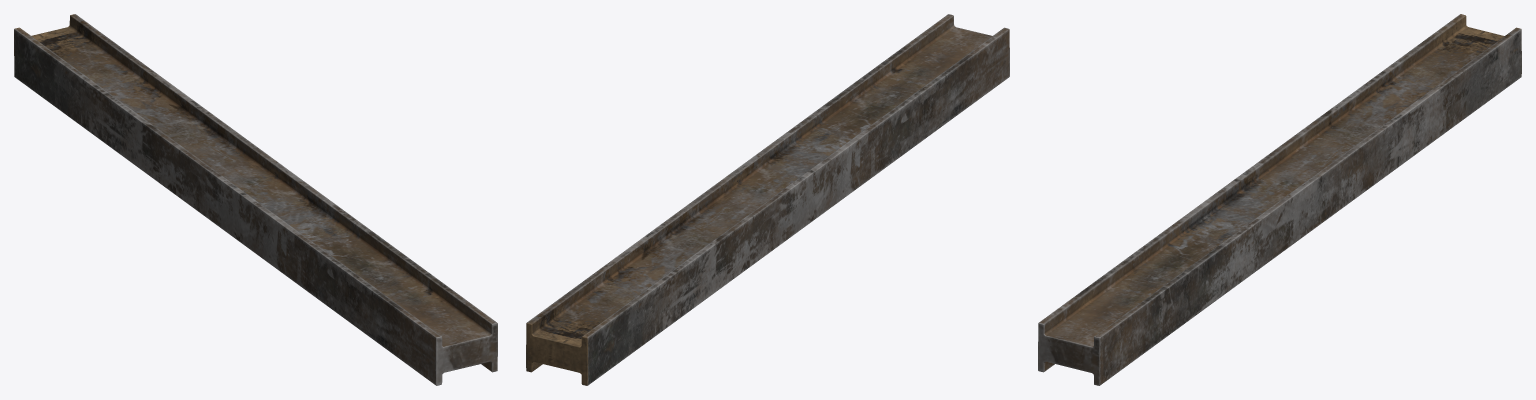
The model's file is SM_Beam_02.fbx.
The picture shows the model from 3 angles, left to right: view 1: azimuth 30°, elevation 25°; view 2: azimuth 150°, elevation 25°; view 3: azimuth 330°, elevation 25°; orthographic projection.
Visible parts, largest first — view 1: SM_Beam_02_LOD0; view 2: SM_Beam_02_LOD0; view 3: SM_Beam_02_LOD0.
Boxes of the visible parts, box(x1,y1,x2,y2) form: SM_Beam_02_LOD0: box(14, 14, 497, 385); SM_Beam_02_LOD0: box(526, 14, 1009, 385); SM_Beam_02_LOD0: box(1038, 14, 1521, 385).
Size of the model in its own units: 15.2 by 180 by 11.33.
Materials: 1 (1 with a texture image).
